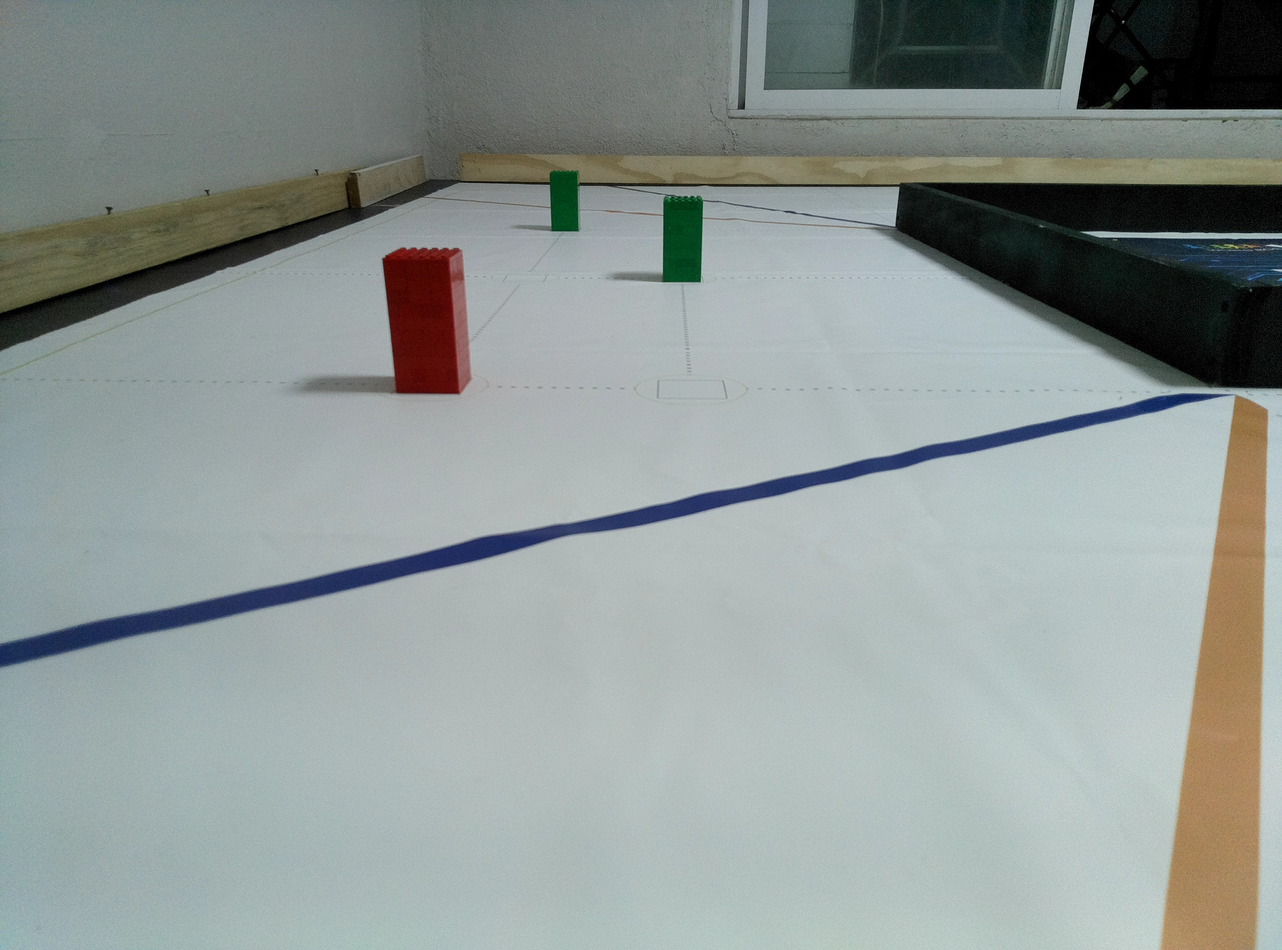greenbox: (663, 196, 704, 283), (550, 171, 581, 231)
redbox: (381, 246, 473, 394)
